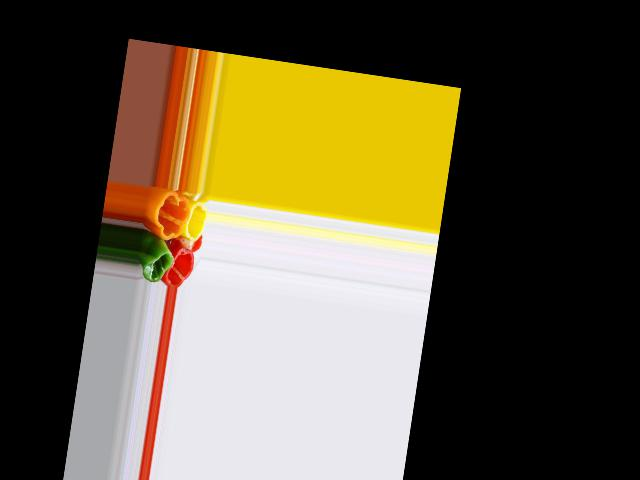bell_pepper: (165, 245, 197, 287)
